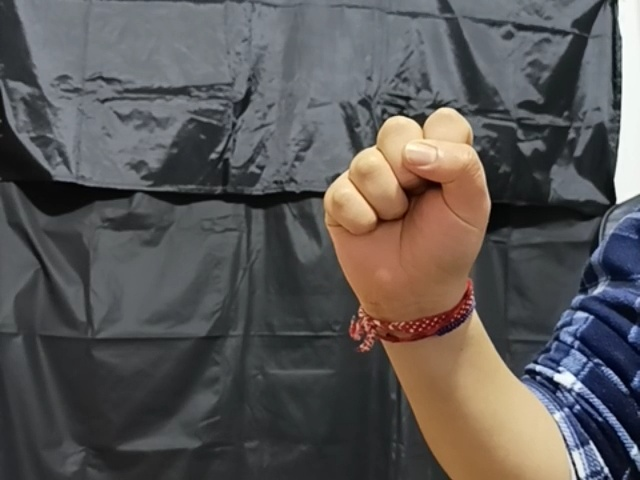S: (317, 107, 497, 298)
